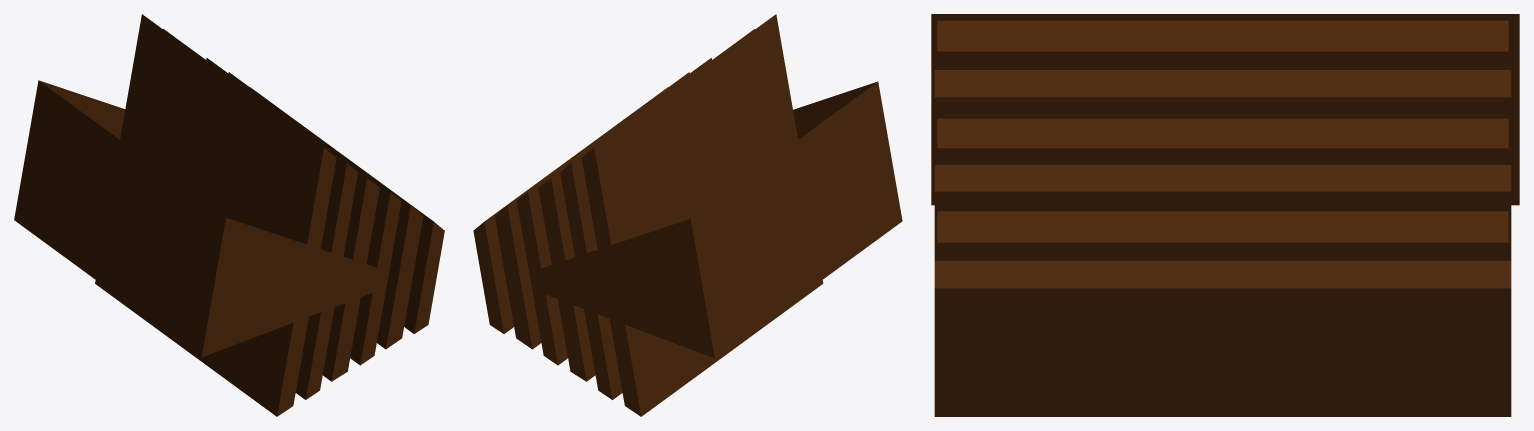
Rendered from chevron_5.obj.
3 renders of one model, left to right at view 1: azimuth 30°, elevation 25°; view 2: azimuth 150°, elevation 25°; view 3: azimuth 270°, elevation 25°, orthographic. The views are drawn at different scales.
Parts seen in each view (by area): view 1: chevron_5; view 2: chevron_5; view 3: chevron_5.
Part boxes in pixels (box(x1,y1,x2,y2)): chevron_5: box(14, 14, 444, 416); chevron_5: box(473, 14, 902, 416); chevron_5: box(931, 14, 1519, 416).
Size of the model in its own units: 0.2667 by 0.2694 by 0.3548.
